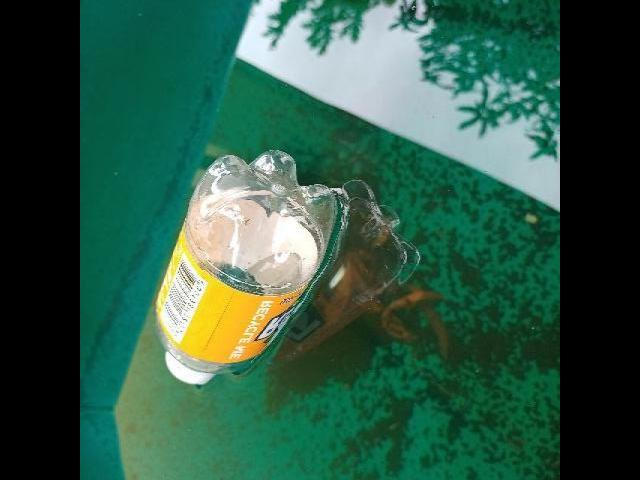Bottle: (161, 142, 331, 388)
